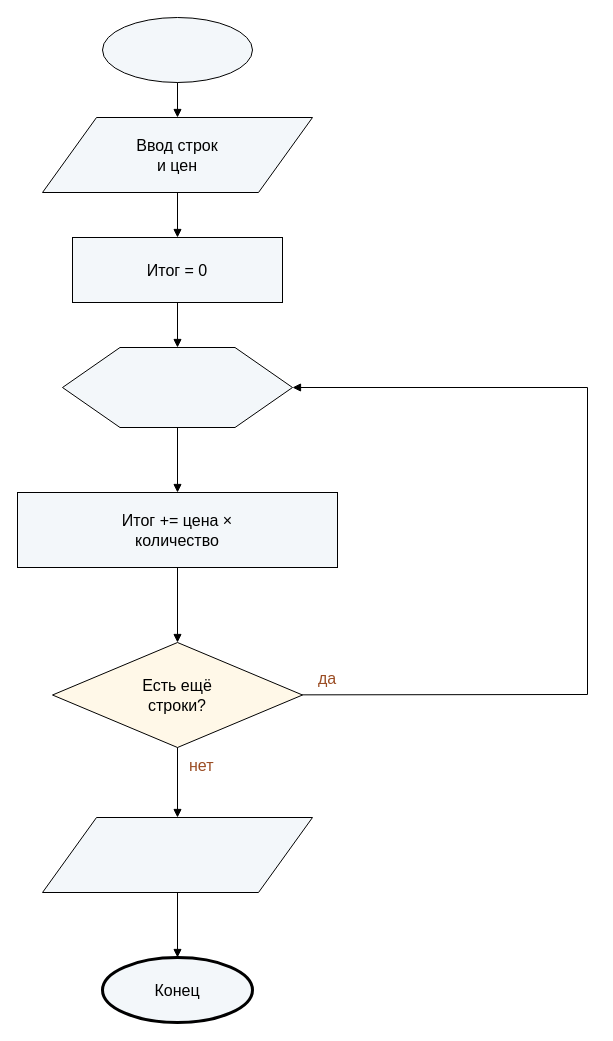
This 613x1041 diagram has some shape labels left out. Each missing label, with the box of its shape:
Вывод итога до копеек: (42, 816, 312, 892)
Начало: (102, 16, 252, 82)
Следующая строка: (62, 346, 292, 428)
